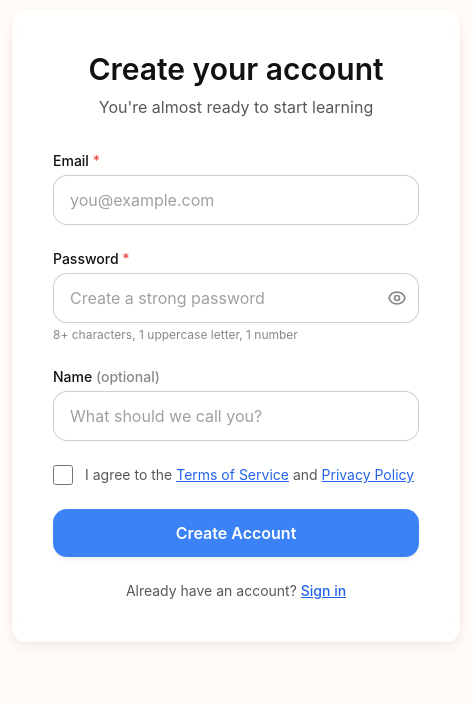
AccountCreationPage › error handling › shows inline errors for validation error (422)
Type "test@invalid-domain.xyz" into the field labelled "Email *".
click(236, 200); type("test@invalid-domain.xyz")  # box [53,175,419,225]
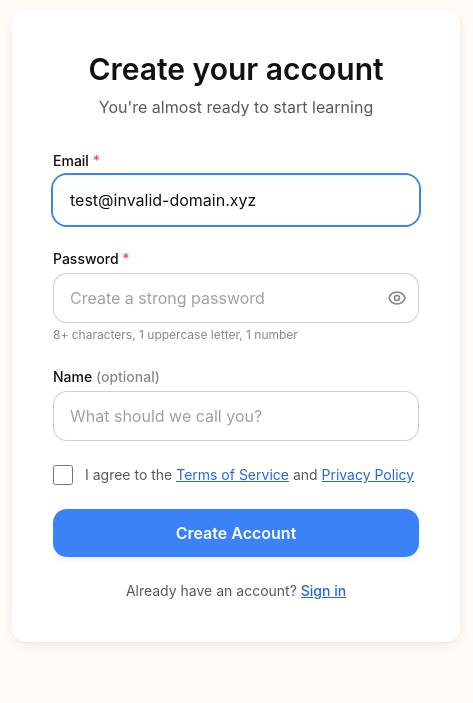
Type "Password123" into the password field labelled "Password *".
click(236, 298); type("Password123")  # box [53,273,419,323]
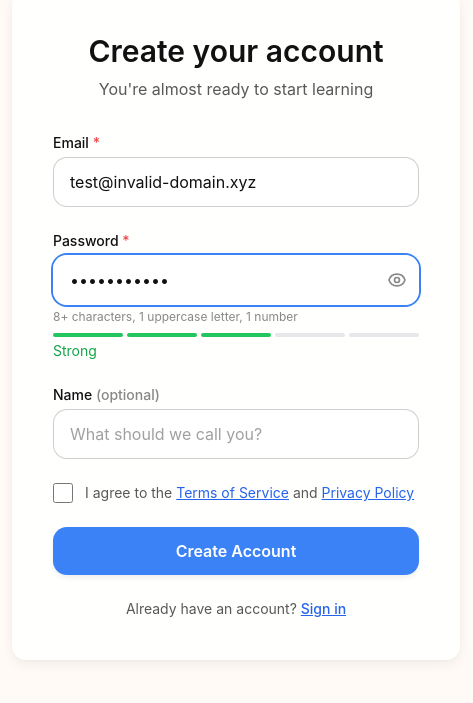
Click the checkbox.
click(63, 493)  # box [53,483,73,503]
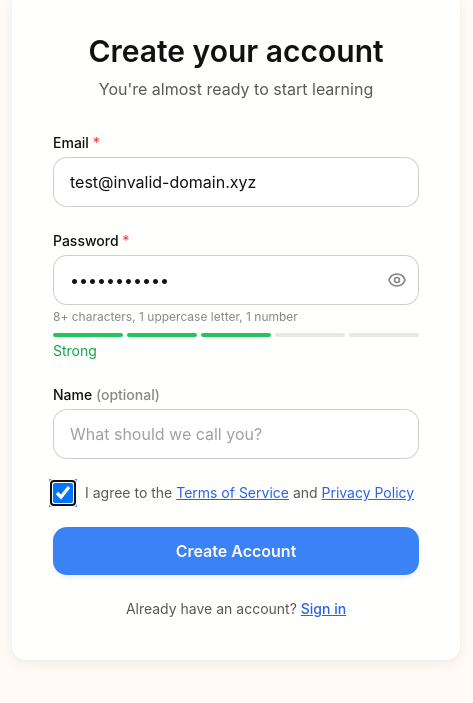
Click the button "Create Account".
click(236, 551)  # box [53,527,419,575]
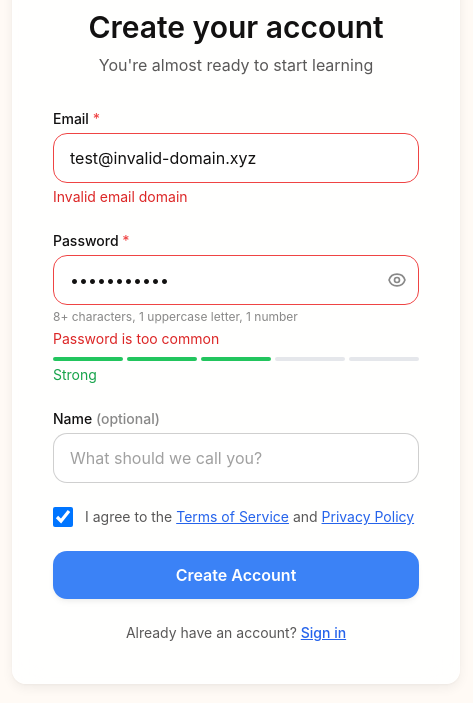
Expected: the text "Invalid email domain" is shown, [53,188,188,205]
